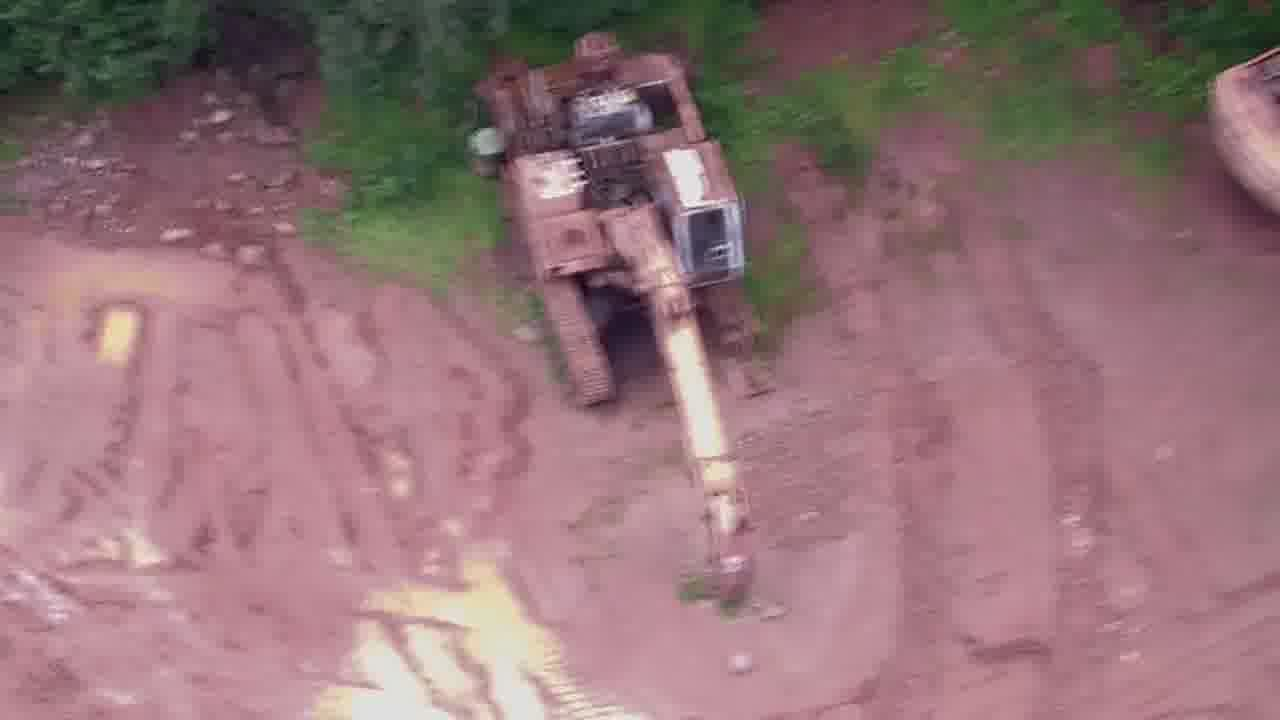HMV: (476, 28, 790, 595)
